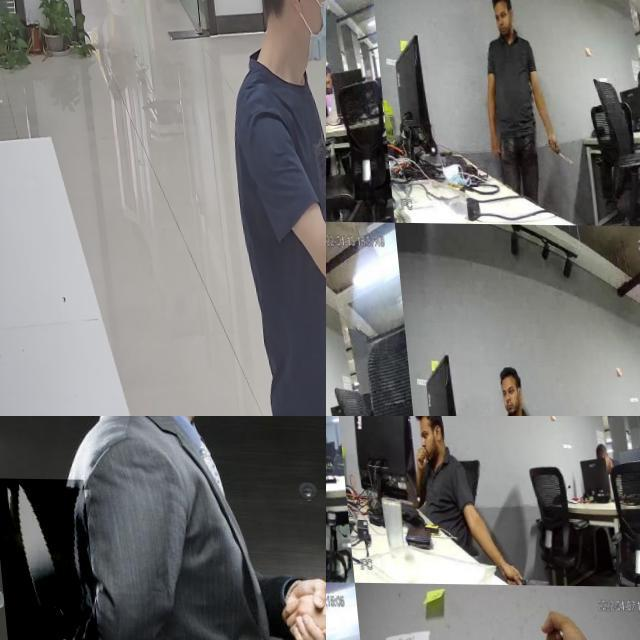-: (0, 478, 90, 640), (326, 479, 341, 542), (544, 142, 568, 166), (509, 568, 543, 583), (326, 143, 337, 185), (326, 338, 339, 360)
